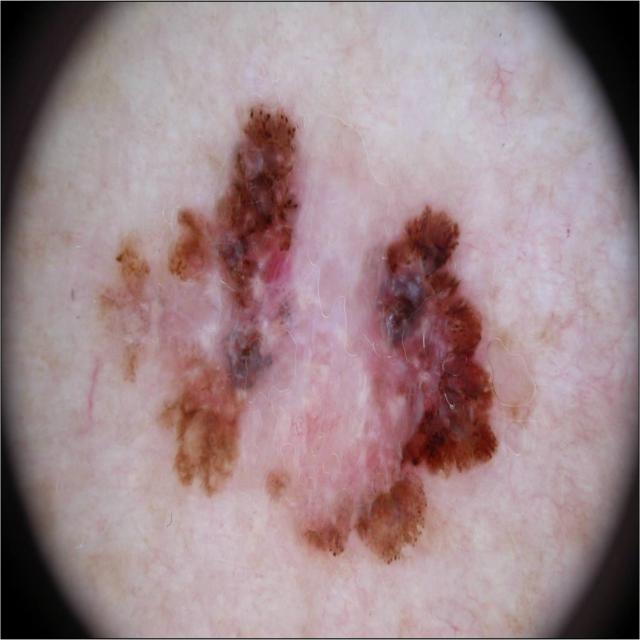Melanoma: (99, 101, 506, 570)
